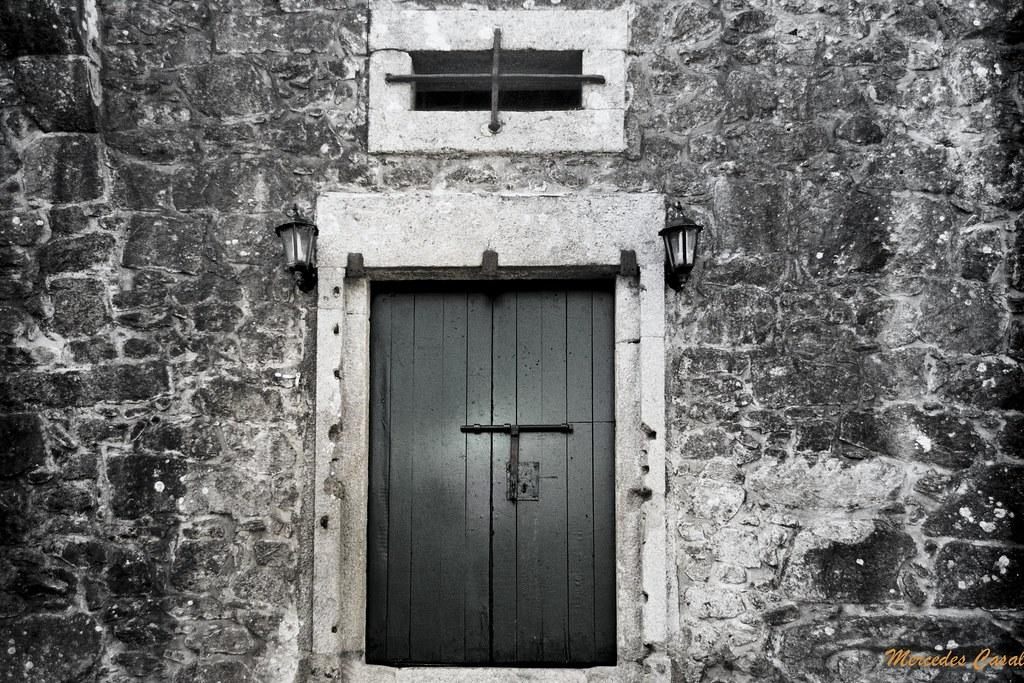door: (366, 279, 617, 668)
